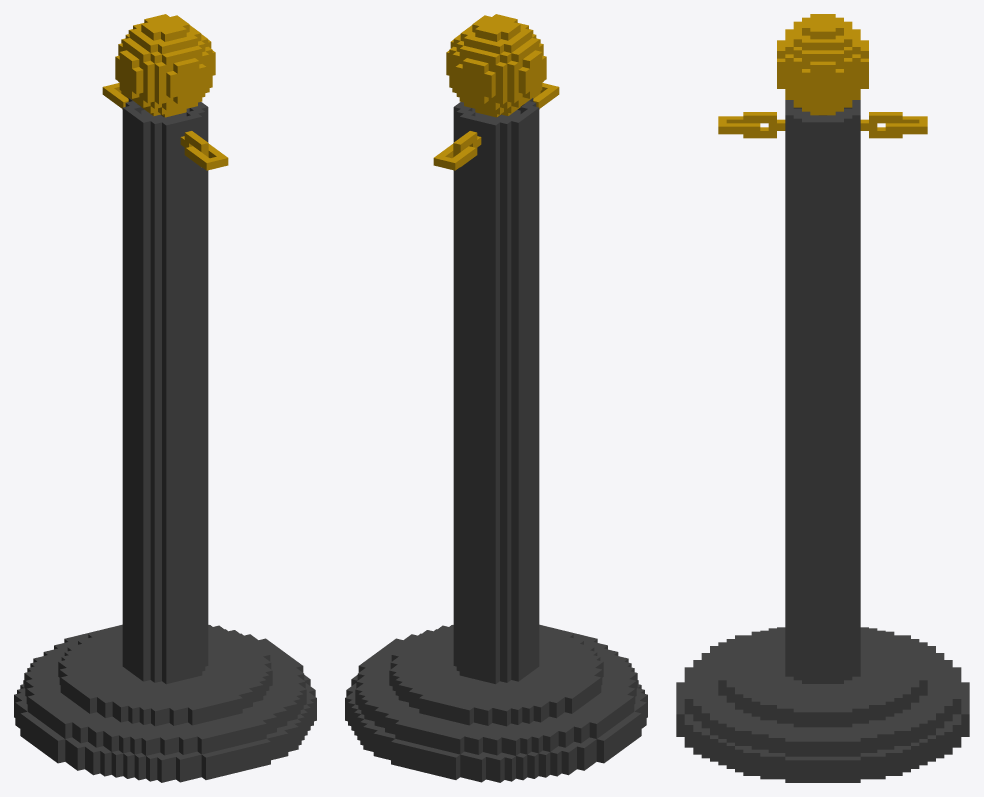
The model's file is Bank furnitures-5.obj.
3 renders of one model, left to right at view 1: azimuth 30°, elevation 25°; view 2: azimuth 150°, elevation 25°; view 3: azimuth 270°, elevation 25°, orthographic.
Parts seen in each view (by area): view 1: Bank furnitures-5; view 2: Bank furnitures-5; view 3: Bank furnitures-5.
Part boxes in pixels (x1,y1,x2,y2): Bank furnitures-5: (14,14,316,782); Bank furnitures-5: (345,14,647,782); Bank furnitures-5: (676,14,969,782).
Bounding box in the file's own units: 35 × 92 × 35.
1 material, 1 textured.
